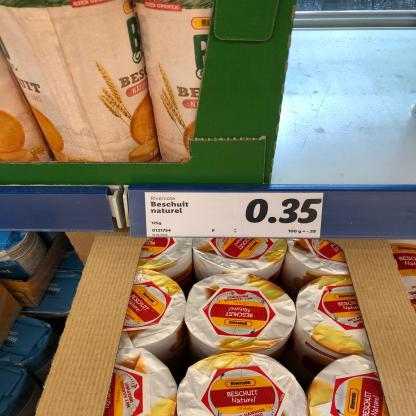prtg: (146, 193, 325, 239)
